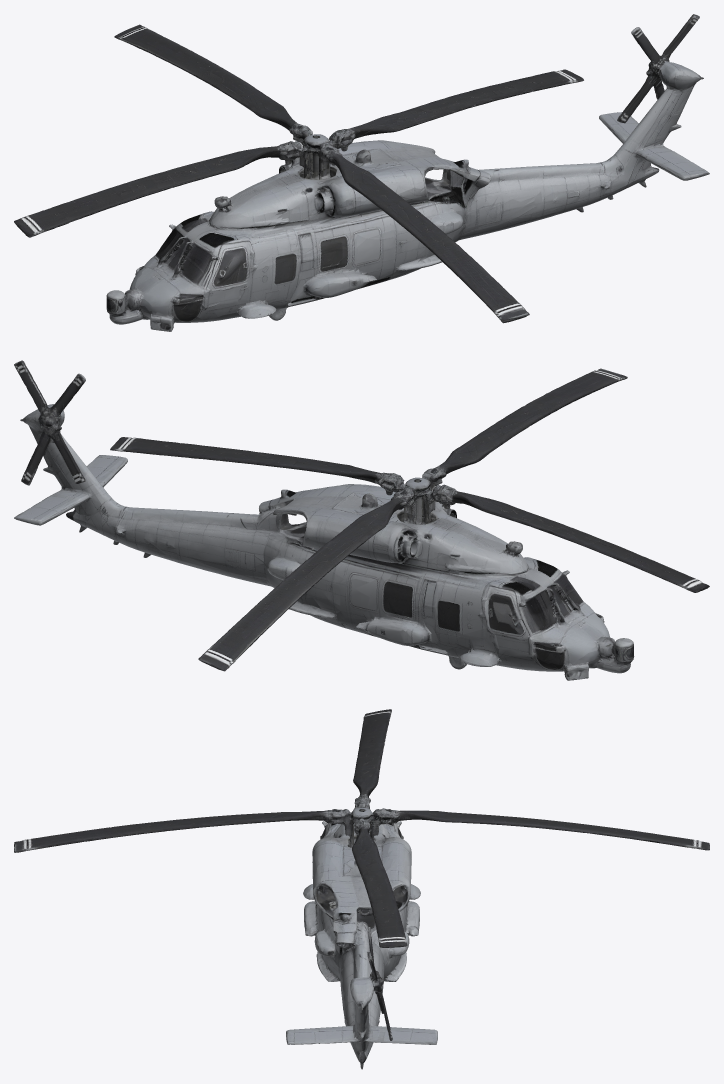
Rendered from mh-60r-seahawk-meshy6-web-v1.glb.
3 renders of one model, top to bottom at view 1: azimuth 30°, elevation 25°; view 2: azimuth 150°, elevation 25°; view 3: azimuth 270°, elevation 25°, orthographic. The views are drawn at different scales.
Bounding box in the file's own units: 1.89 × 0.5019 × 1.9.
1 material, 1 textured.
